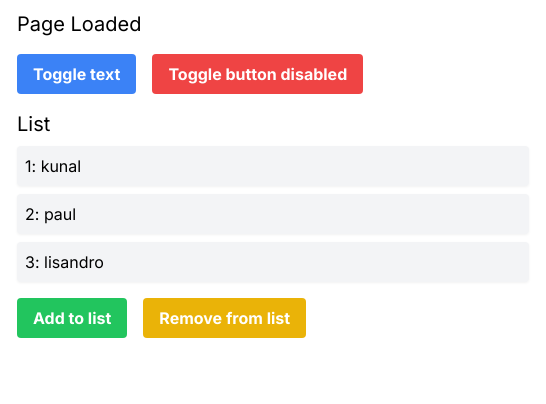
Scenario: TestingStateChange component › adds an element to the list
The width and height of the screenshot is (546, 404).
Expected: the number of elements with test id "record" is 3, [17,146,529,186]; [17,194,529,234]; [17,242,529,282]
Click the button "Add to list" at (72, 318), box [17,298,127,338]
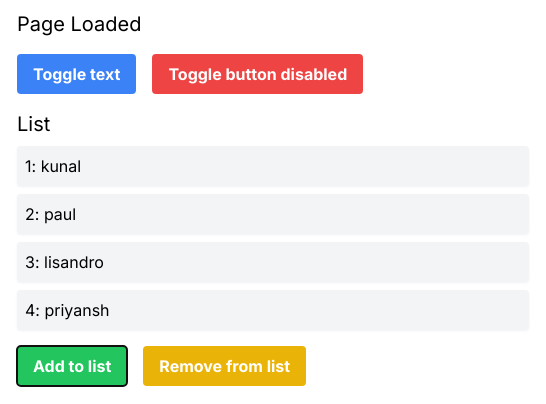
Expected: the number of elements with test id "record" is 4, [17,146,529,186]; [17,194,529,234]; [17,242,529,282]; [17,290,529,330]
Expected: the text "4: priyansh" is shown, [17,290,529,330]
